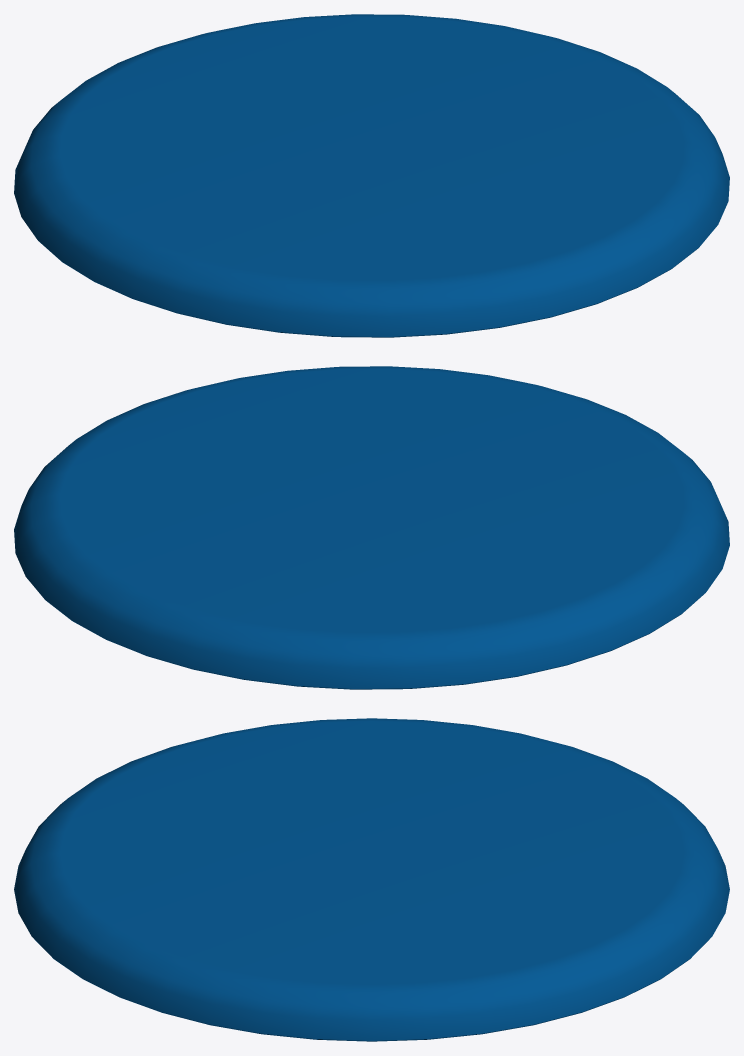
The model's file is Frisbee.fbx.
The picture shows the model from 3 angles, top to bottom: view 1: azimuth 30°, elevation 25°; view 2: azimuth 150°, elevation 25°; view 3: azimuth 270°, elevation 25°; orthographic projection.
Visible parts, largest first — view 1: Frisbee; view 2: Frisbee; view 3: Frisbee.
Boxes of the visible parts, box(x1,y1,x2,y2) form: Frisbee: box(14, 14, 729, 337); Frisbee: box(14, 366, 729, 689); Frisbee: box(14, 718, 729, 1041).
Size of the model in its own units: 219 by 13.37 by 219.
